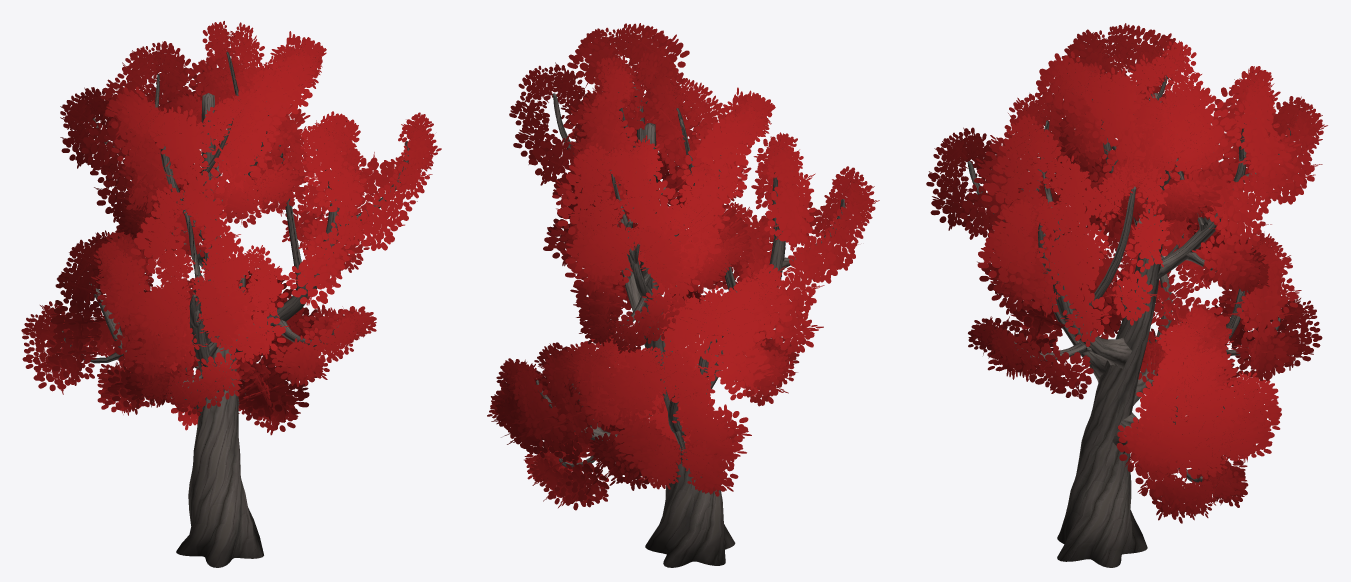
The model's file is TwistedTree_3.gltf.
3 renders of one model, left to right at view 1: azimuth 30°, elevation 25°; view 2: azimuth 150°, elevation 25°; view 3: azimuth 270°, elevation 25°, orthographic. The views are drawn at different scales.
Visible parts, largest first — view 1: TwistedTree_3; view 2: TwistedTree_3; view 3: TwistedTree_3.
Boxes of the visible parts, x1,y1,x2,y2 form: TwistedTree_3: (21, 21, 441, 567); TwistedTree_3: (487, 23, 879, 567); TwistedTree_3: (926, 23, 1327, 567).
Size of the model in its own units: 11.36 by 16.07 by 11.51.
Materials: 2 (2 with a texture image).
